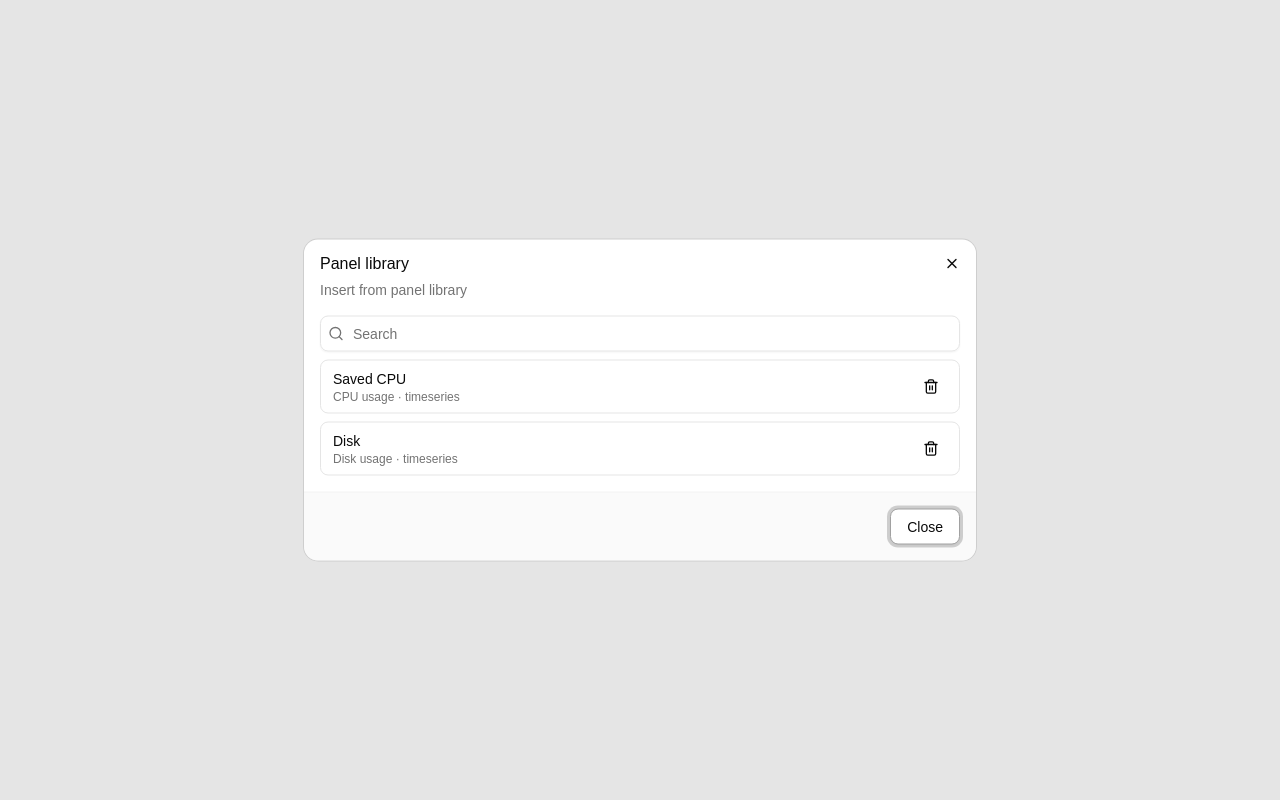
Test: panel library › filters stored panels by name and panel title
This screenshot has width=1280, height=800.
Expected: the text "Saved CPU" is shown, left=333, top=370, right=406, bottom=386
Step 1. Type "disk" into the field labelled "Search" → (640, 334), box left=320, top=316, right=960, bottom=352
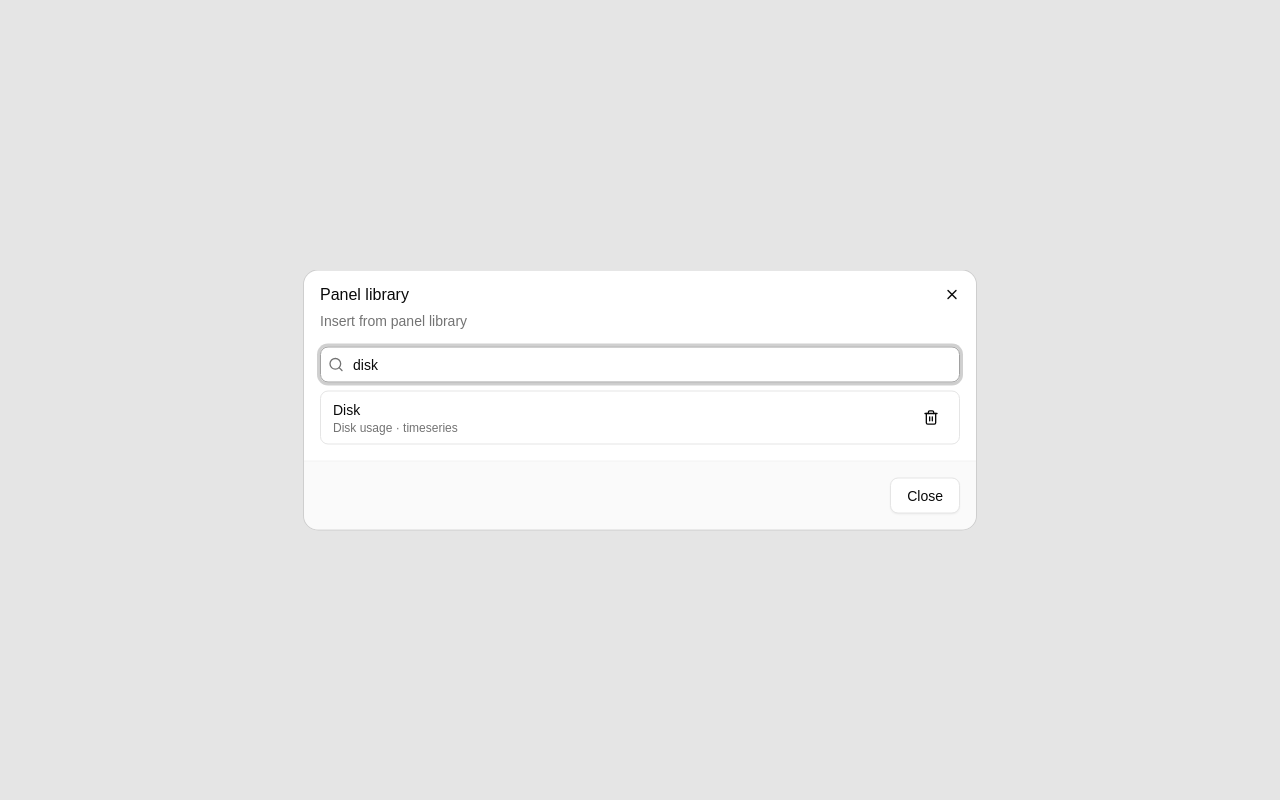
Expected: the text "Disk" is shown, left=333, top=402, right=360, bottom=418
Now the text "Saved CPU" is gone
Step 2. Clear the field named "Search" → (640, 364), box left=320, top=346, right=960, bottom=382
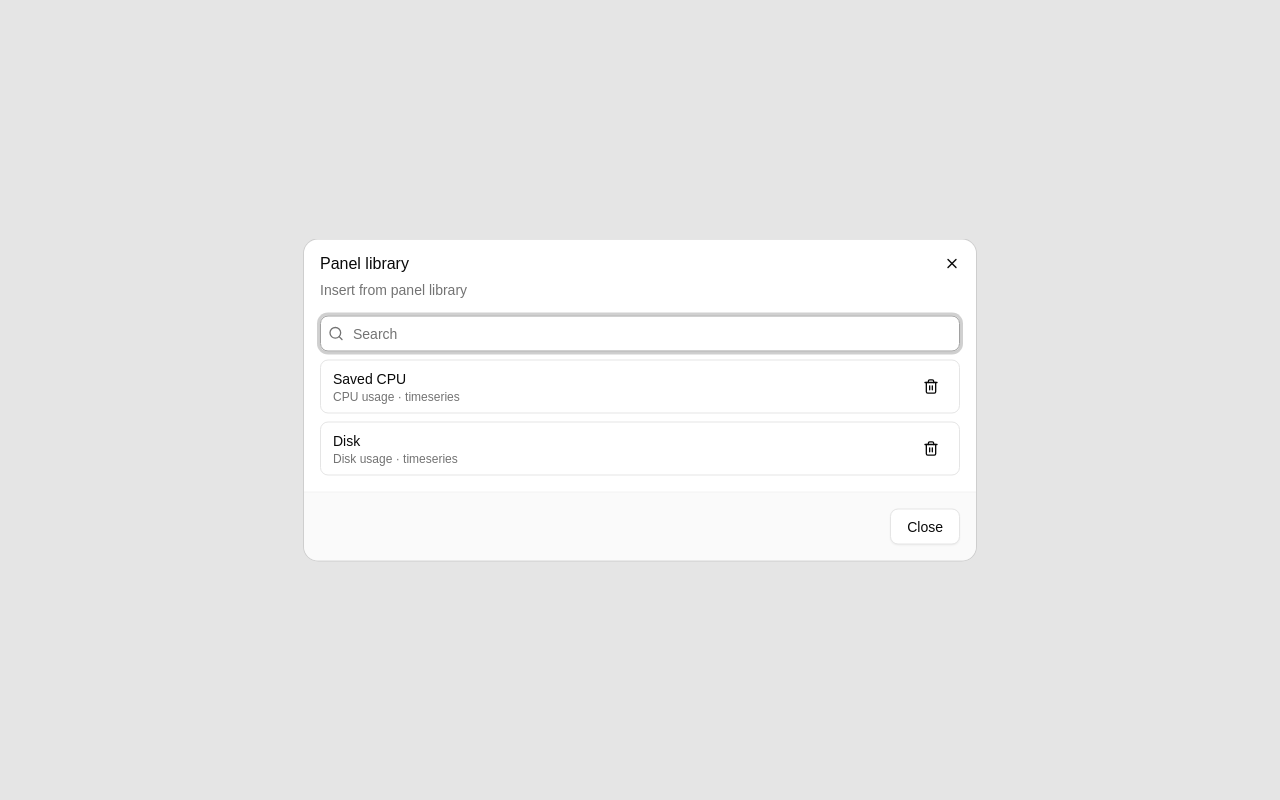
Step 3. Type "missing" into the field labelled "Search" → (640, 334), box left=320, top=316, right=960, bottom=352
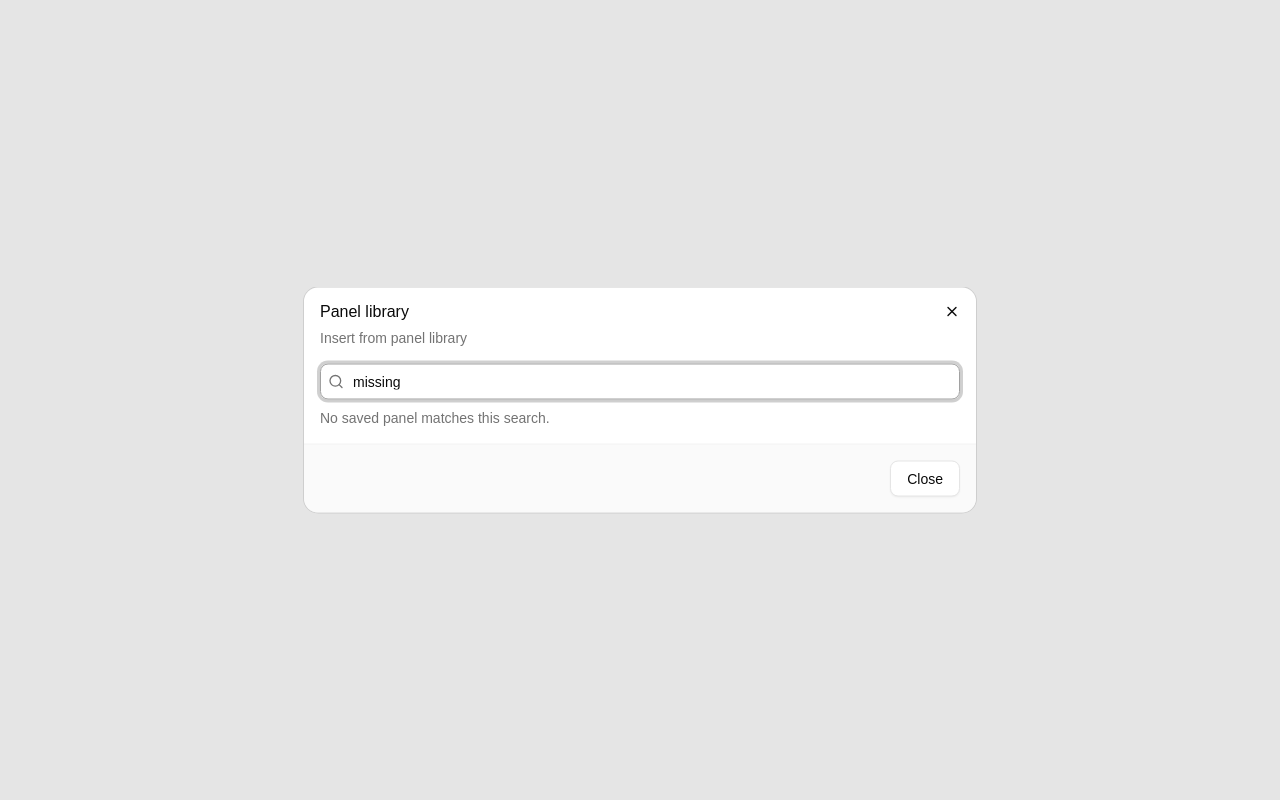
Now the text "No saved panel matches this search." is shown, box left=320, top=410, right=550, bottom=426
